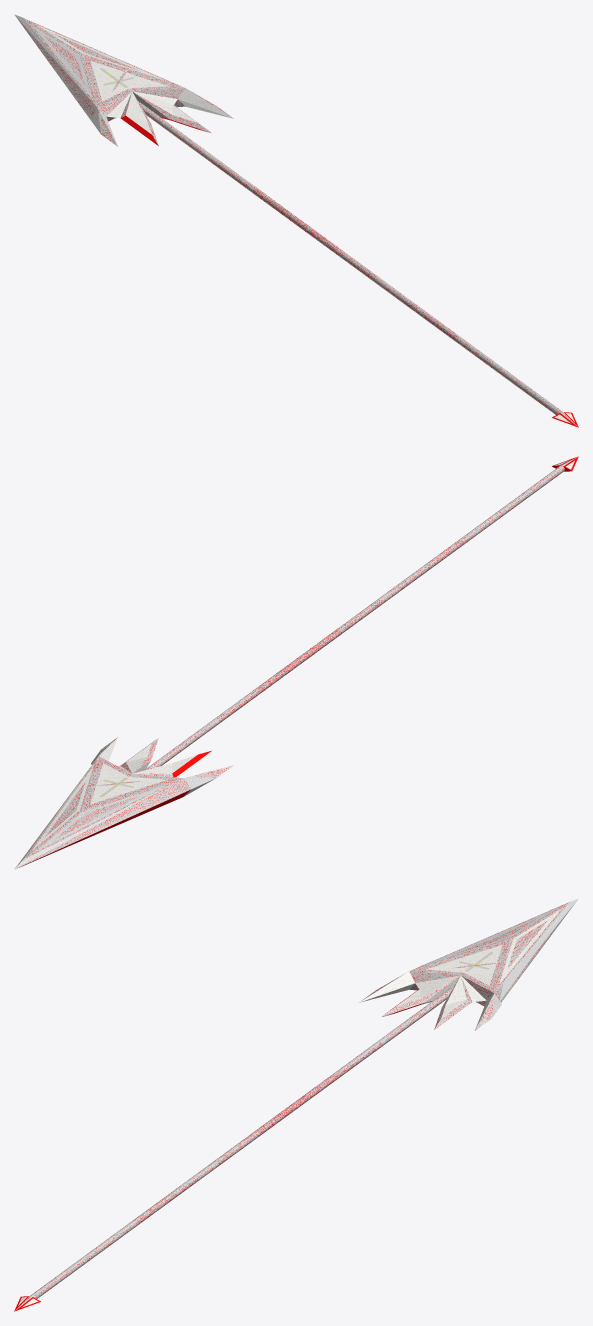
Rendered from spear5.fbx.
The picture shows the model from 3 angles, top to bottom: view 1: azimuth 30°, elevation 25°; view 2: azimuth 150°, elevation 25°; view 3: azimuth 330°, elevation 25°; orthographic projection.
Visible parts, largest first — view 1: SketchUp.027, SketchUp.013, SketchUp.046, SketchUp.016, SketchUp.030, SketchUp.005; view 2: SketchUp.027, SketchUp.013, SketchUp.016, SketchUp.046, SketchUp.030, SketchUp.012, SketchUp.028; view 3: SketchUp.027, SketchUp.013, SketchUp.046, SketchUp.028, SketchUp.009.
Part boxes in pixels (x1,y1,x2,y2): SketchUp.027: (138,101,578,427); SketchUp.013: (23,18,184,116); SketchUp.046: (90,61,167,100); SketchUp.016: (15,16,97,118); SketchUp.030: (32,25,92,98); SketchUp.005: (178,88,233,118); SketchUp.027: (143,456,578,770); SketchUp.013: (23,756,182,859); SketchUp.016: (16,778,190,868); SketchUp.046: (90,763,166,803); SketchUp.030: (35,785,166,851); SketchUp.012: (14,764,174,869); SketchUp.028: (32,766,93,850); SketchUp.027: (14,985,454,1311); SketchUp.013: (409,902,569,1000); SketchUp.046: (426,945,502,985); SketchUp.028: (499,909,560,983); SketchUp.009: (359,971,414,1002).
Size of the model in its own units: 3900 by 600 by 32880.
